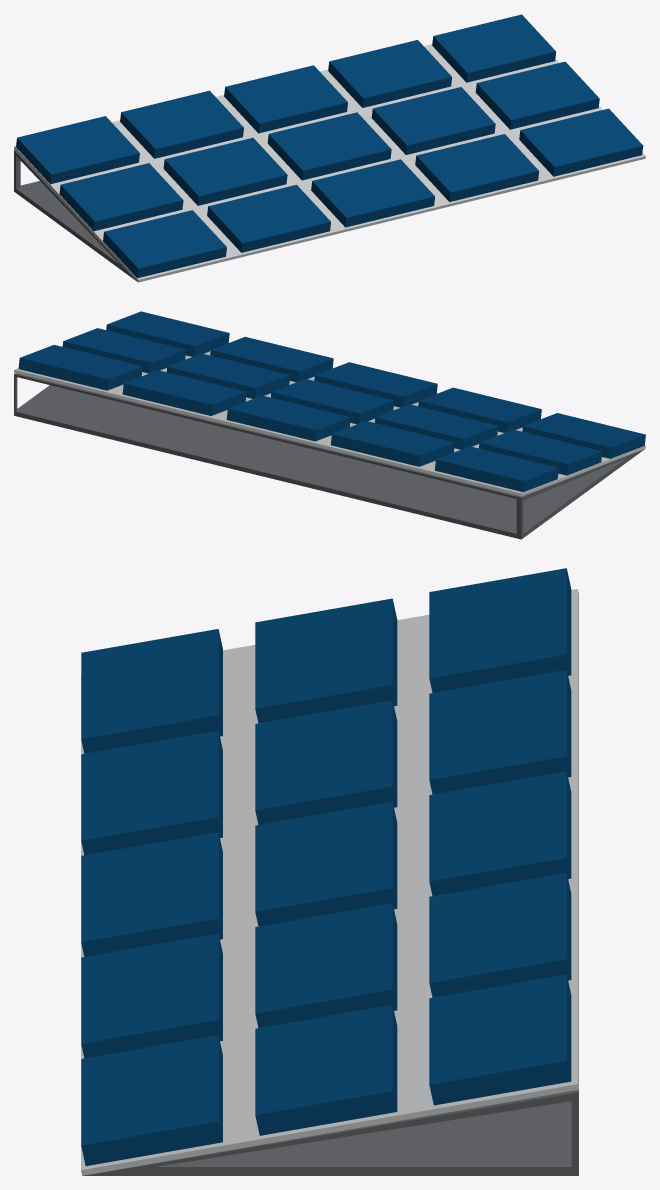
File: Solar Panel 3x5 small.glb
The picture shows the model from 3 angles, top to bottom: view 1: azimuth 30°, elevation 25°; view 2: azimuth 150°, elevation 25°; view 3: azimuth 270°, elevation 25°; orthographic projection. The views are drawn at different scales.
Visible parts, largest first — view 1: Mesh_Mesh_head_geo.001_lambert2SG.001; view 2: Mesh_Mesh_head_geo.001_lambert2SG.001; view 3: Mesh_Mesh_head_geo.001_lambert2SG.001.
Part boxes in pixels (<box>): Mesh_Mesh_head_geo.001_lambert2SG.001: <box>14,14,645,282</box>; Mesh_Mesh_head_geo.001_lambert2SG.001: <box>14,311,645,539</box>; Mesh_Mesh_head_geo.001_lambert2SG.001: <box>81,568,578,1175</box>.
Bounding box in the file's own units: 151 × 15.95 × 64.03.
